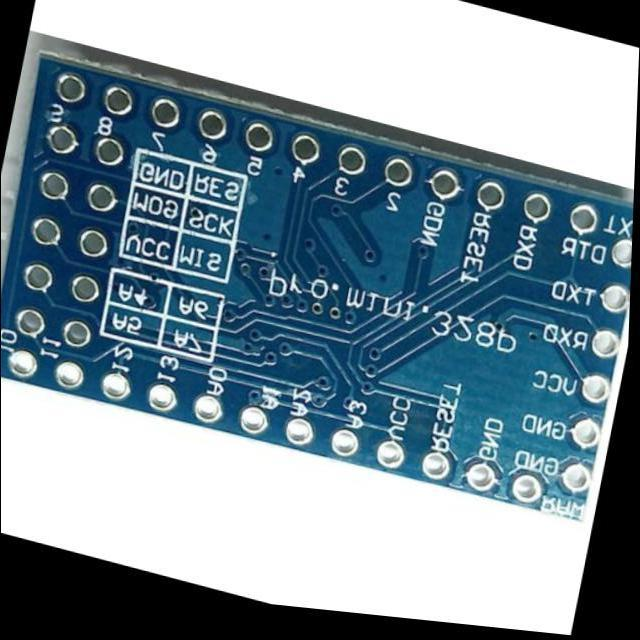Arduino-ProMini: (4, 60, 632, 519)
